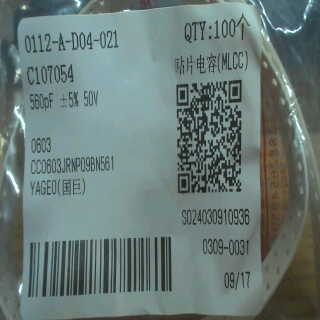560pF: (26, 91, 57, 115)
